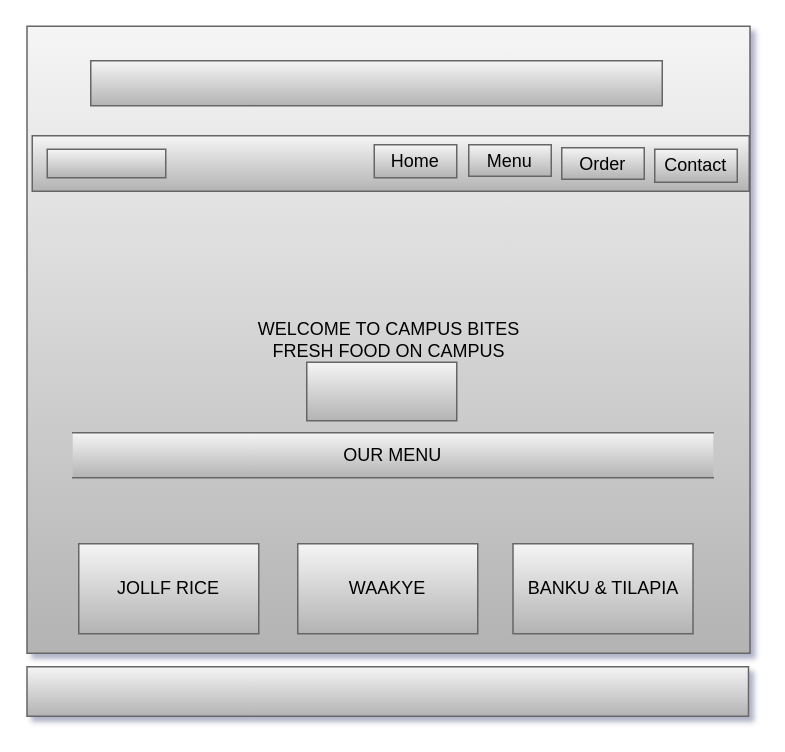
Some shapes in this 785 by 752 pixel diagram are drawn without their labels. Here are the shapes that lost their labels. From the top down, the box of each, then its label:
(89, 59, 662, 106): HOME PAGE WEIREFRAME
(46, 148, 166, 178): Campus Bites
(305, 361, 457, 421): Order Now
(26, 665, 748, 716): FOOTER
